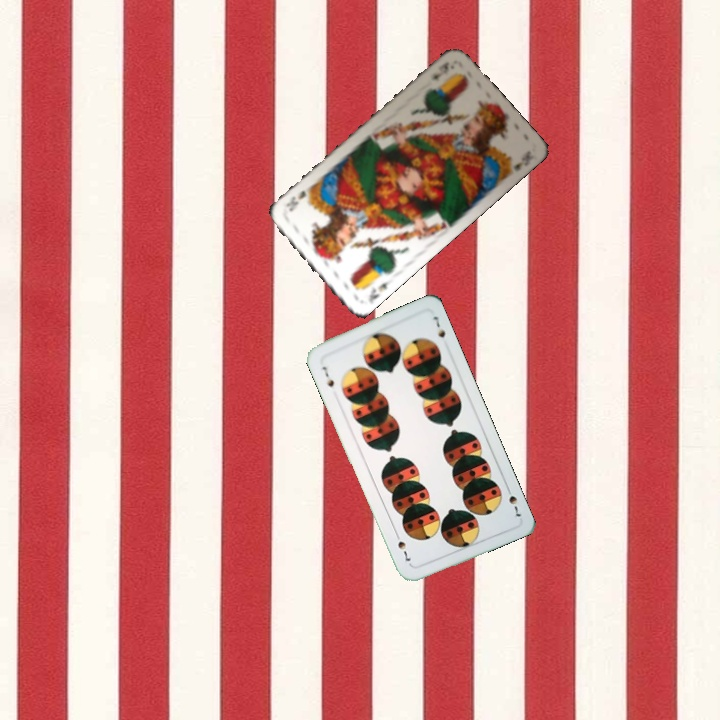EK: (364, 276, 393, 303), (429, 58, 452, 83)
S7: (502, 482, 524, 521), (318, 362, 337, 392)
